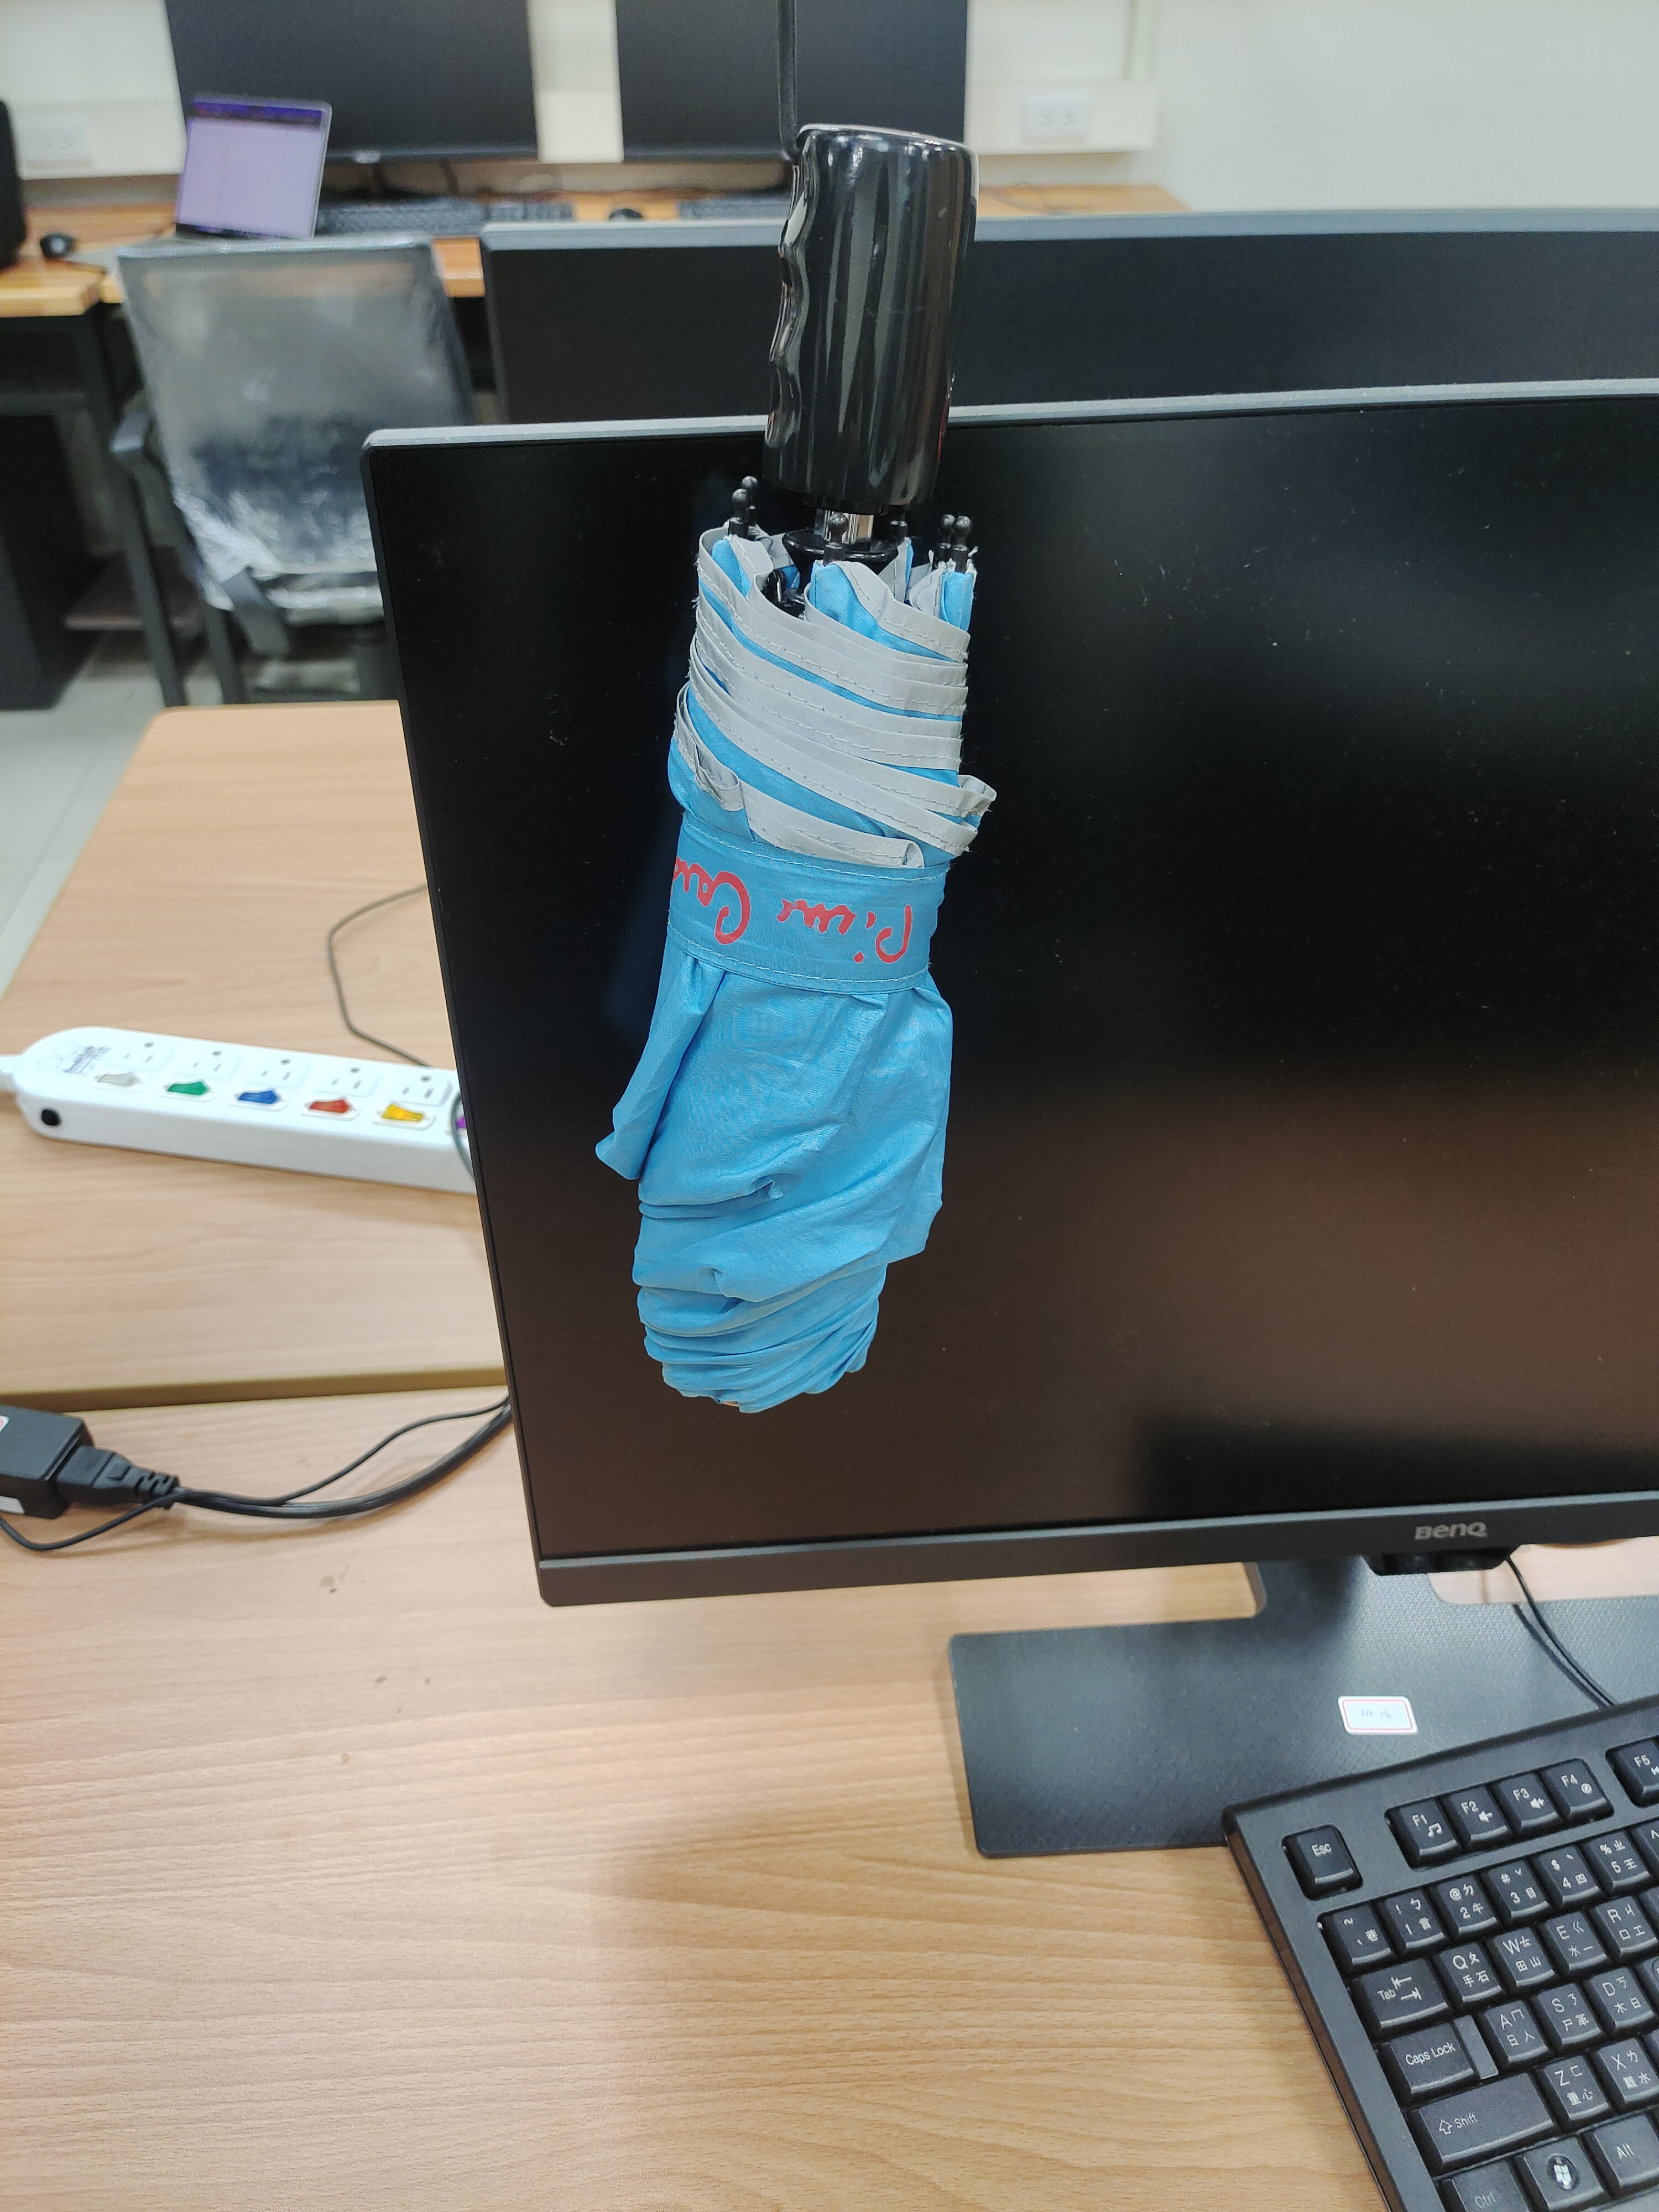Umbrella: (592, 16, 1021, 1421)
